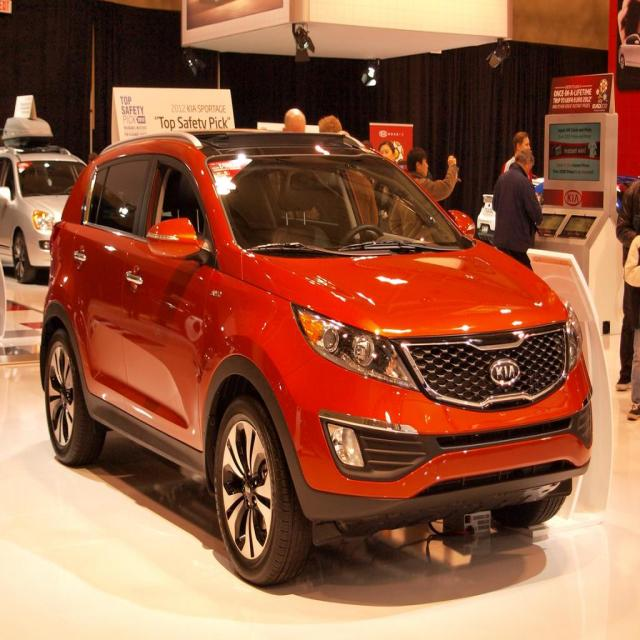car: (33, 120, 612, 584)
